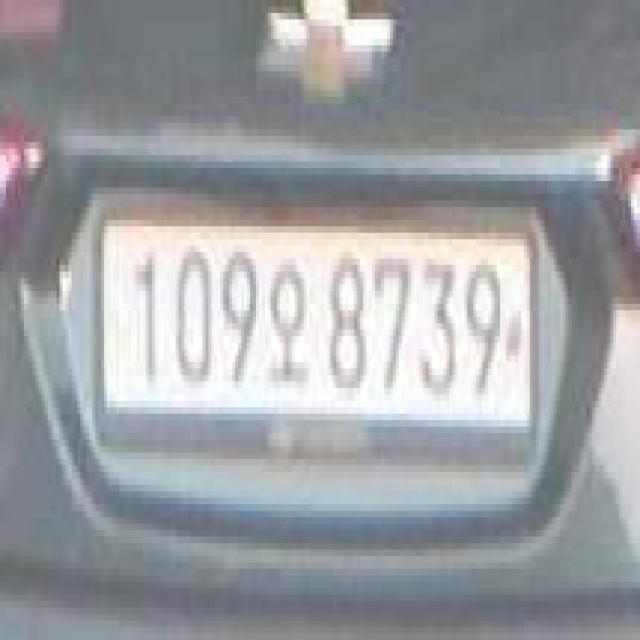illegal_plate: (94, 197, 538, 476)
